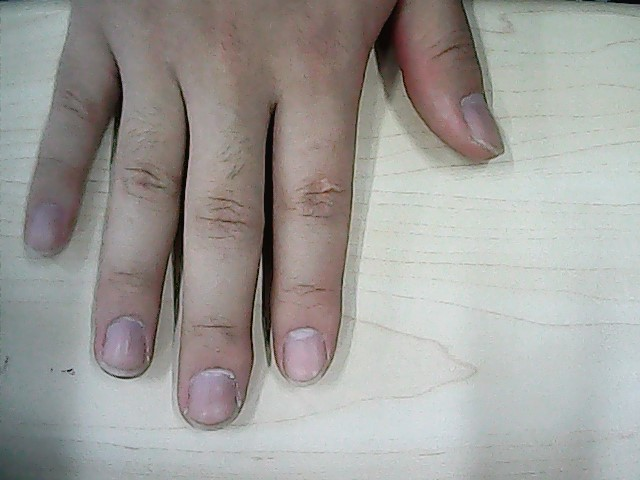nail: (185, 365, 240, 430), (457, 92, 505, 155), (101, 313, 148, 377), (281, 324, 330, 385), (24, 199, 64, 260)
